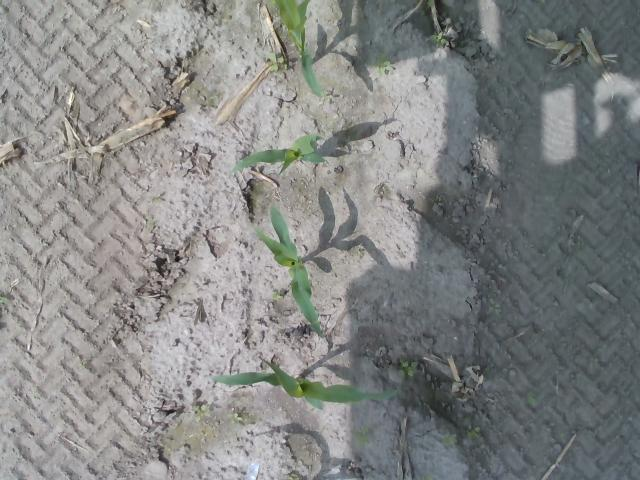Maize: (206, 354, 400, 410), (252, 204, 322, 338), (273, 0, 323, 98), (232, 131, 328, 173)
Weeds: (402, 359, 419, 378), (376, 58, 392, 76), (192, 404, 208, 422), (269, 53, 284, 71), (466, 424, 481, 440), (431, 31, 446, 46), (226, 411, 243, 424), (354, 434, 368, 446), (488, 303, 502, 314), (270, 290, 284, 301), (444, 434, 456, 444), (287, 473, 300, 480)
